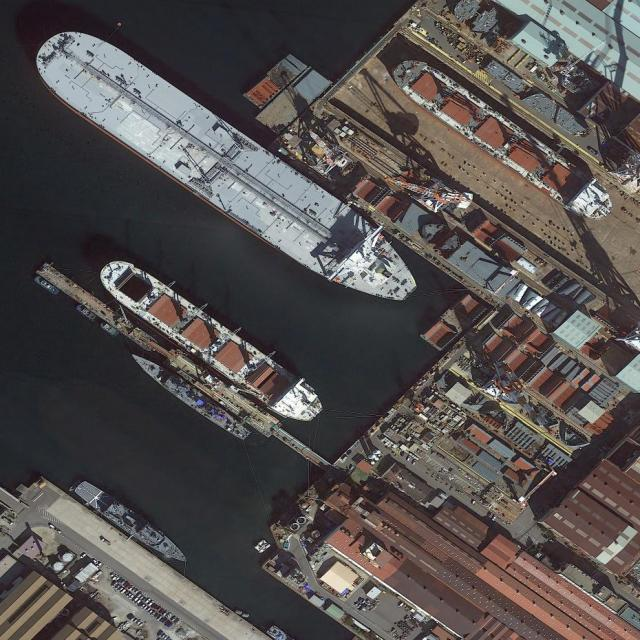Cargo: (89, 240, 337, 434)
Destroyer: (72, 474, 192, 570)
Dock: (37, 264, 332, 473)
Oil Tanker: (23, 9, 428, 327)
Other Warship: (124, 346, 252, 444)
